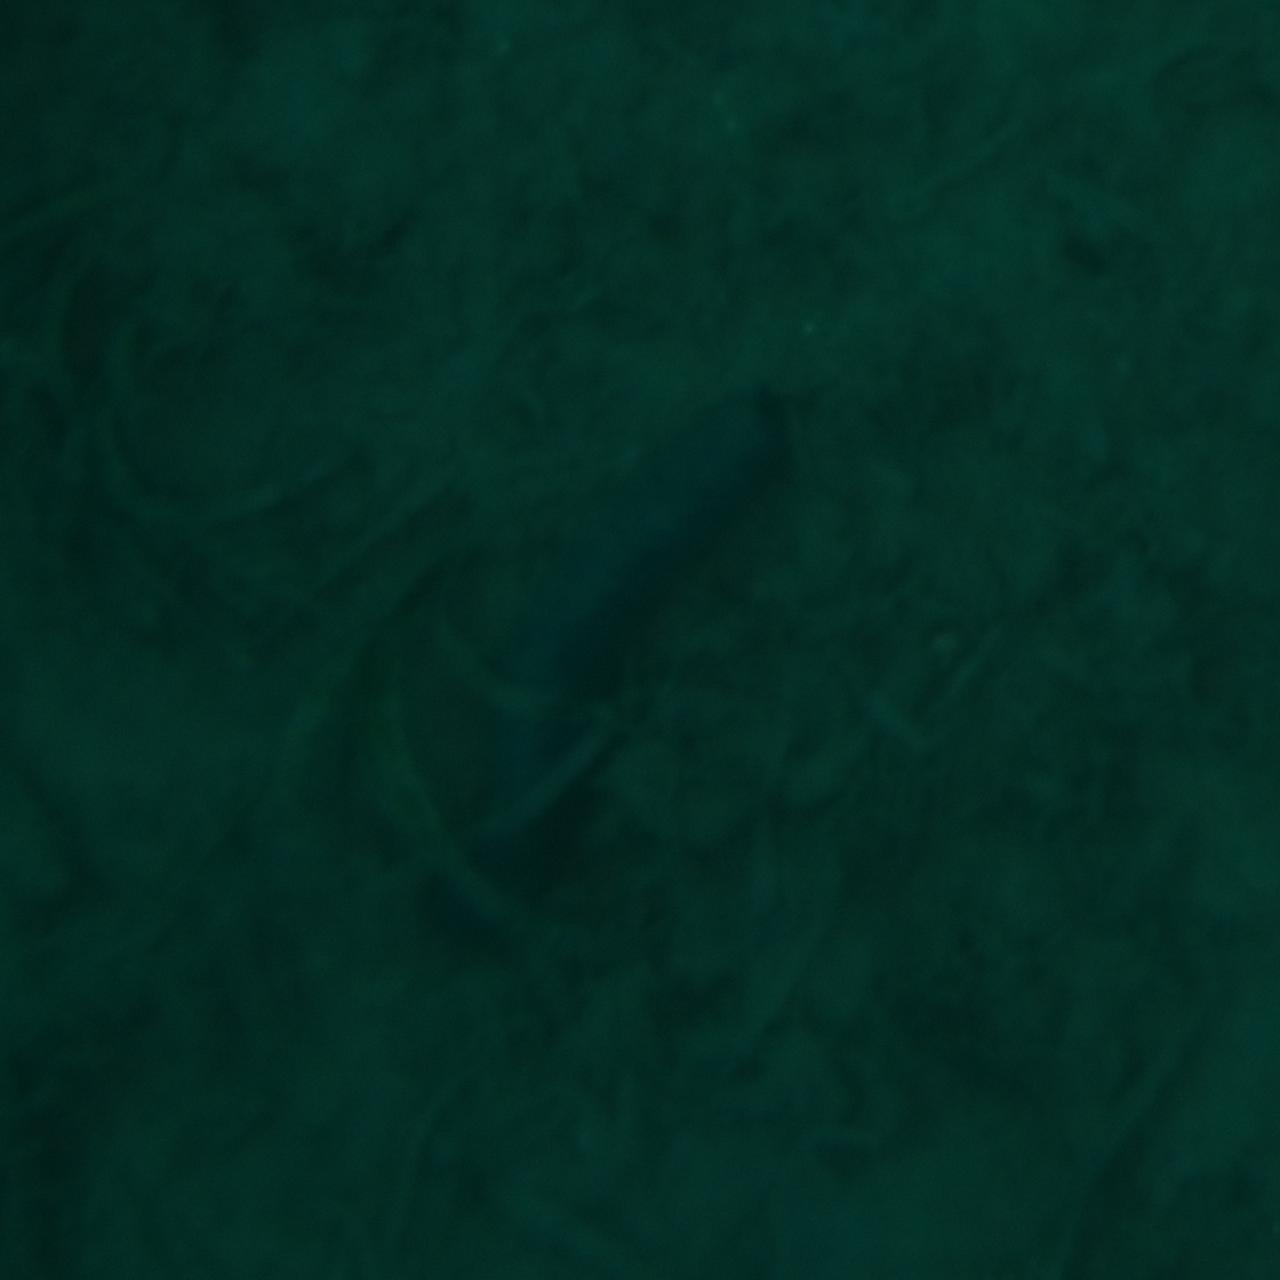Holothuria tubulosa: (463, 374, 817, 906)
